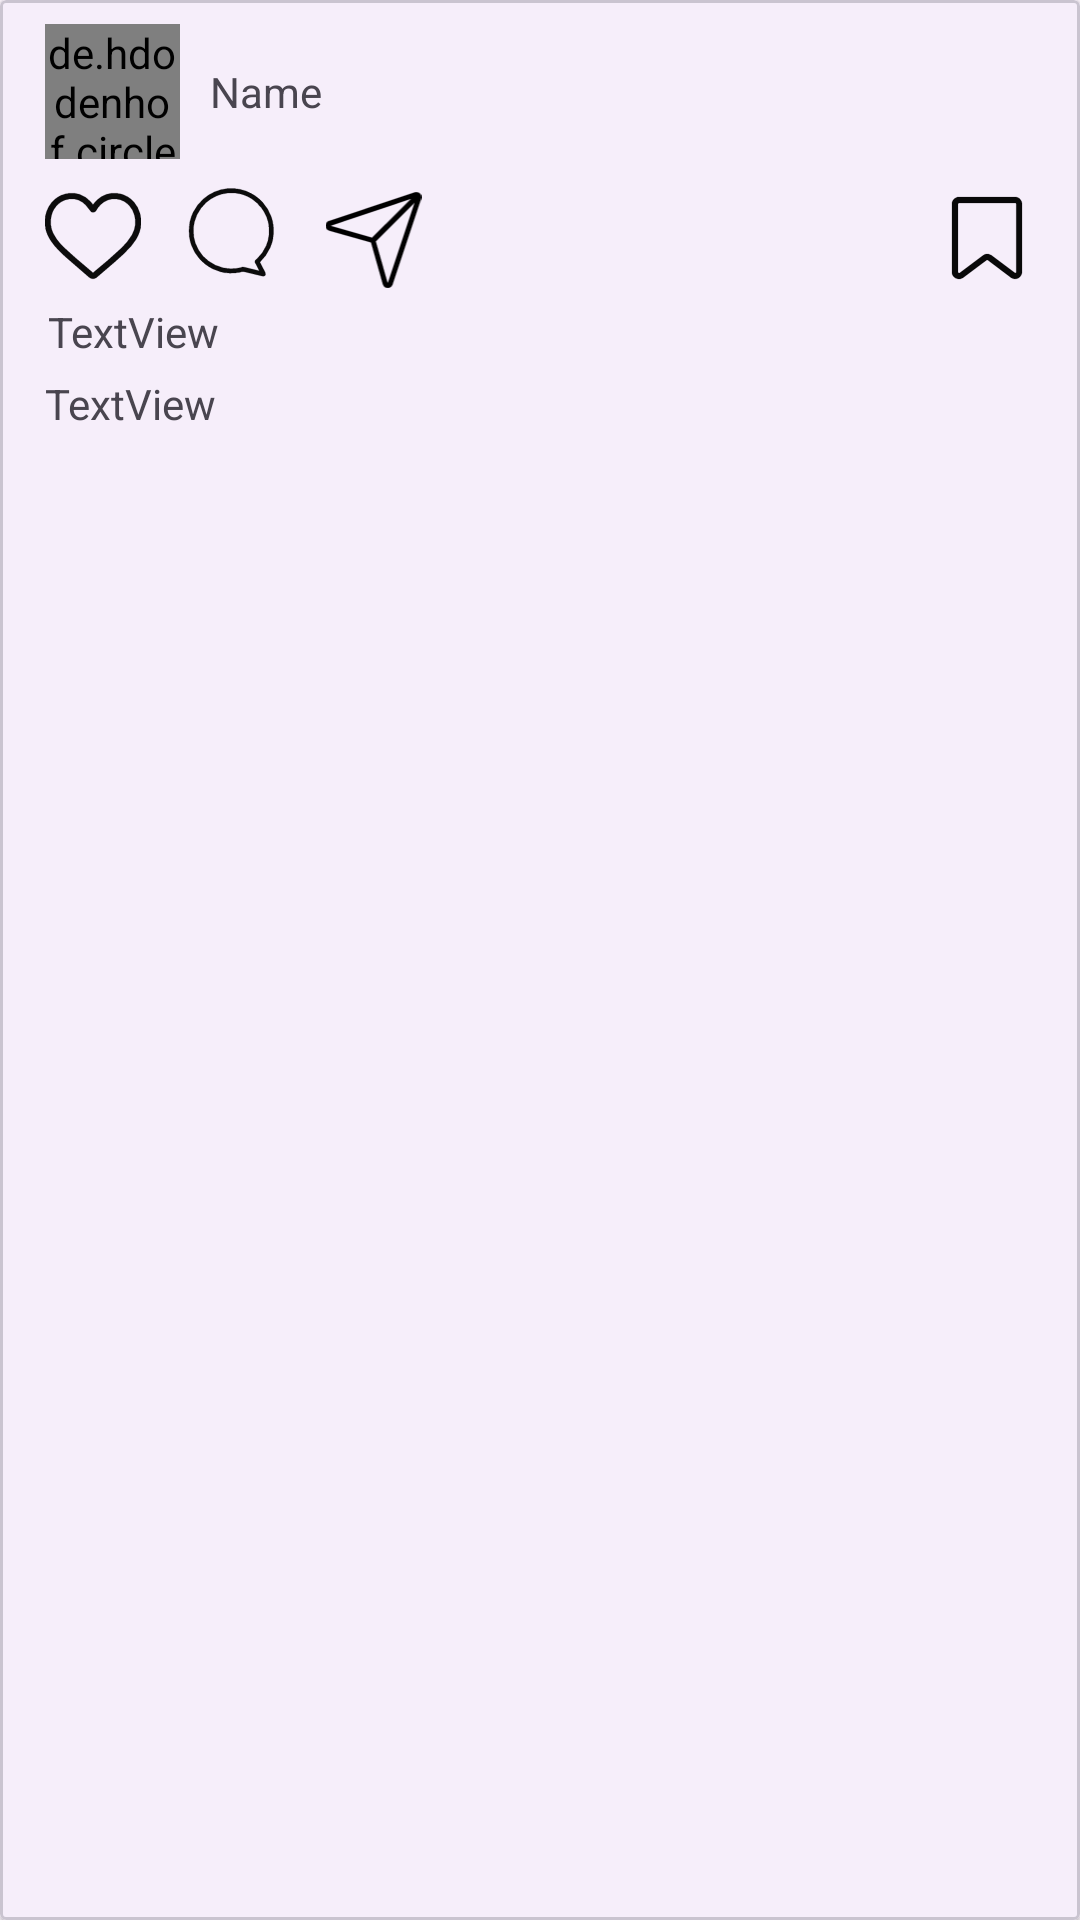

Icon bounding boxes for this 1080×1920 phone screenshot, format [x1=x1, y1=y1, x2=x2, y2=y2]:
comment: [x1=188, y1=188, x2=274, y2=277]
heart: [x1=45, y1=193, x2=141, y2=279]
save post: [x1=951, y1=197, x2=1023, y2=279]
share: [x1=326, y1=192, x2=422, y2=288]
